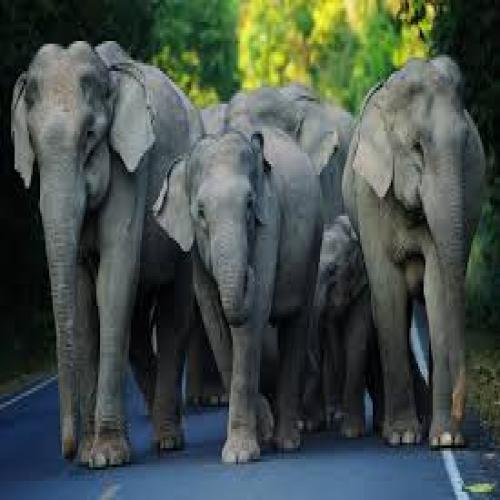asian_elephant-endangered: (11, 38, 204, 473), (152, 130, 325, 466), (342, 58, 487, 446), (197, 98, 351, 214), (314, 215, 378, 438)
